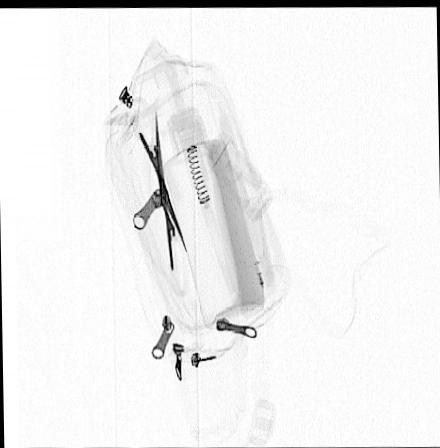Scissors: (126, 95, 188, 302)
